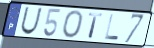5: (42, 8, 62, 38)
7: (123, 13, 146, 44)
L: (103, 13, 120, 41)
O: (61, 9, 84, 39)
T: (87, 12, 104, 40)
U: (19, 6, 43, 36)
